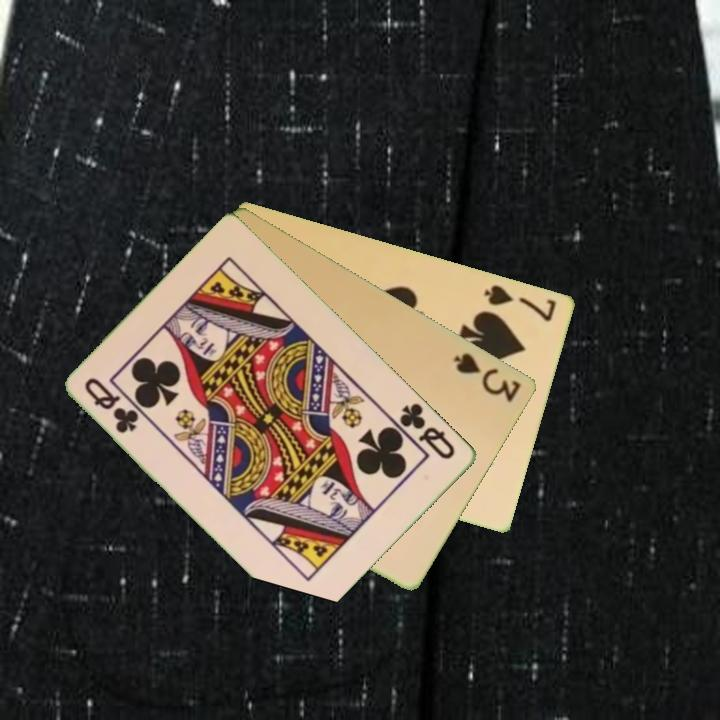3s: (450, 348, 524, 405)
7s: (481, 281, 560, 324)
Qc: (396, 399, 459, 462), (81, 374, 143, 437)
